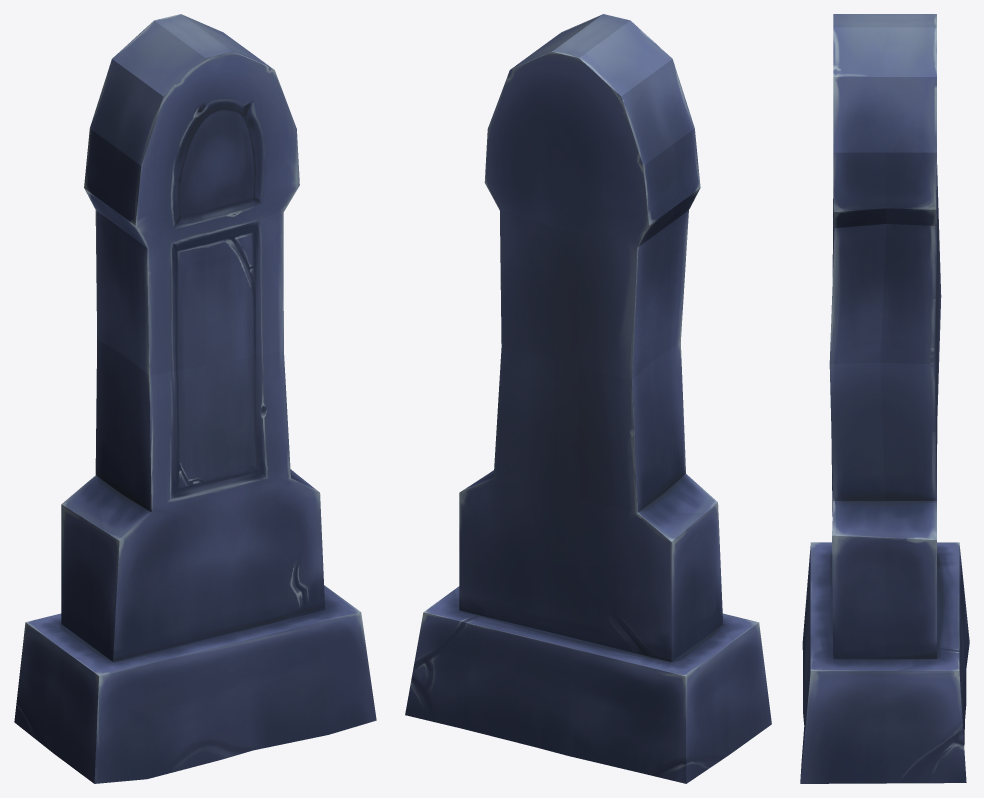
The model's file is gravestone_4.fbx.
The picture shows the model from 3 angles, left to right: view 1: azimuth 30°, elevation 25°; view 2: azimuth 150°, elevation 25°; view 3: azimuth 270°, elevation 25°; orthographic projection.
Visible parts, largest first — view 1: Plane.002; view 2: Plane.002; view 3: Plane.002.
Boxes of the visible parts, box(x1,y1,x2,y2) form: Plane.002: box(14, 14, 376, 783); Plane.002: box(405, 14, 771, 783); Plane.002: box(800, 14, 969, 783).
Bounding box in the file's own units: 220 × 510 × 112.
